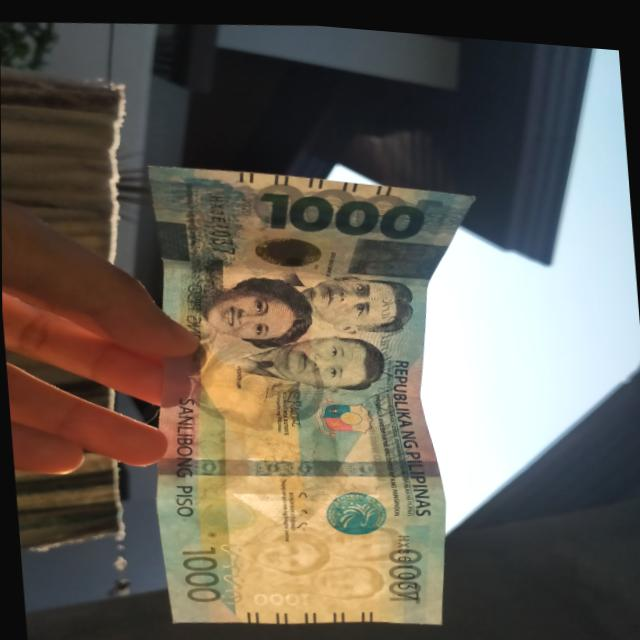concealed_value: (344, 231, 448, 272)
optically_variable_device: (237, 223, 343, 273)
security_thread: (154, 432, 442, 492)
see_through_mark: (211, 536, 246, 603)
serial_number: (198, 182, 242, 260)
value: (256, 174, 428, 241)
value_watermark: (246, 580, 313, 609)
watermark: (243, 502, 406, 602)
